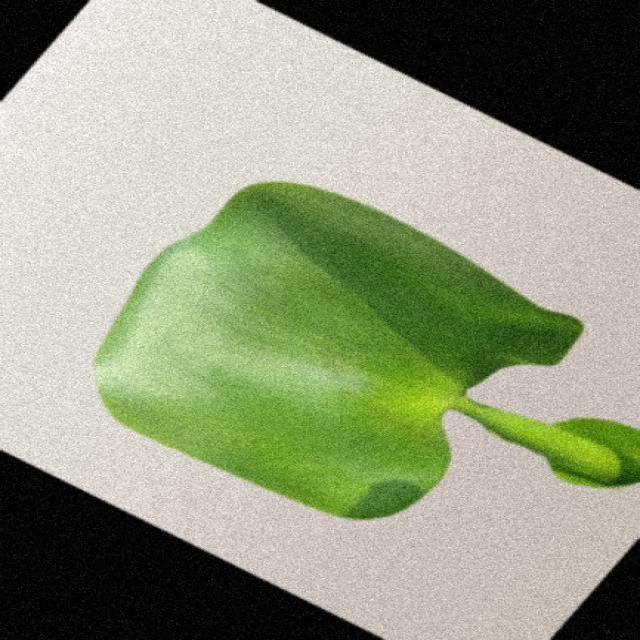daun sehat: (99, 182, 640, 519)
